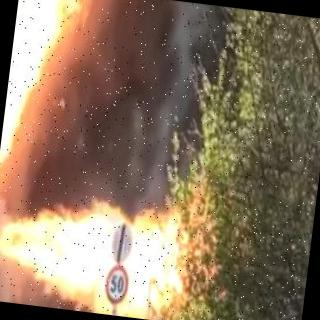smoke: (60, 15, 216, 210), (0, 270, 111, 315)
